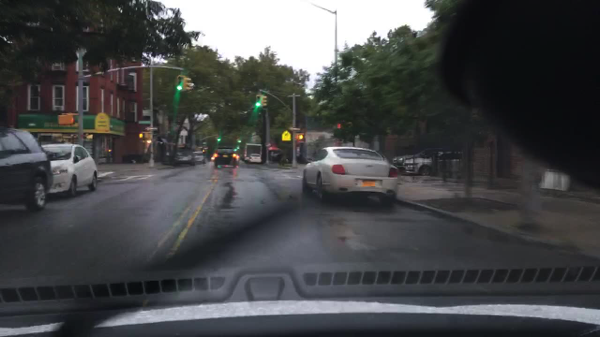bus: (245, 143, 263, 154)
car: (301, 147, 400, 206), (0, 127, 55, 212), (40, 144, 99, 197), (400, 150, 464, 176), (392, 145, 445, 169), (271, 150, 309, 166), (212, 147, 239, 169), (173, 147, 195, 166), (191, 150, 206, 165), (248, 153, 262, 163), (243, 154, 249, 163)
traffic light: (336, 120, 352, 132), (57, 114, 74, 125), (175, 74, 183, 92), (185, 78, 192, 92), (138, 132, 150, 140), (255, 93, 260, 110), (261, 95, 267, 109), (296, 135, 305, 143), (236, 135, 242, 144), (217, 135, 221, 143)
traffic sign: (280, 130, 289, 141), (144, 126, 158, 132), (288, 127, 301, 132), (138, 120, 151, 125)
